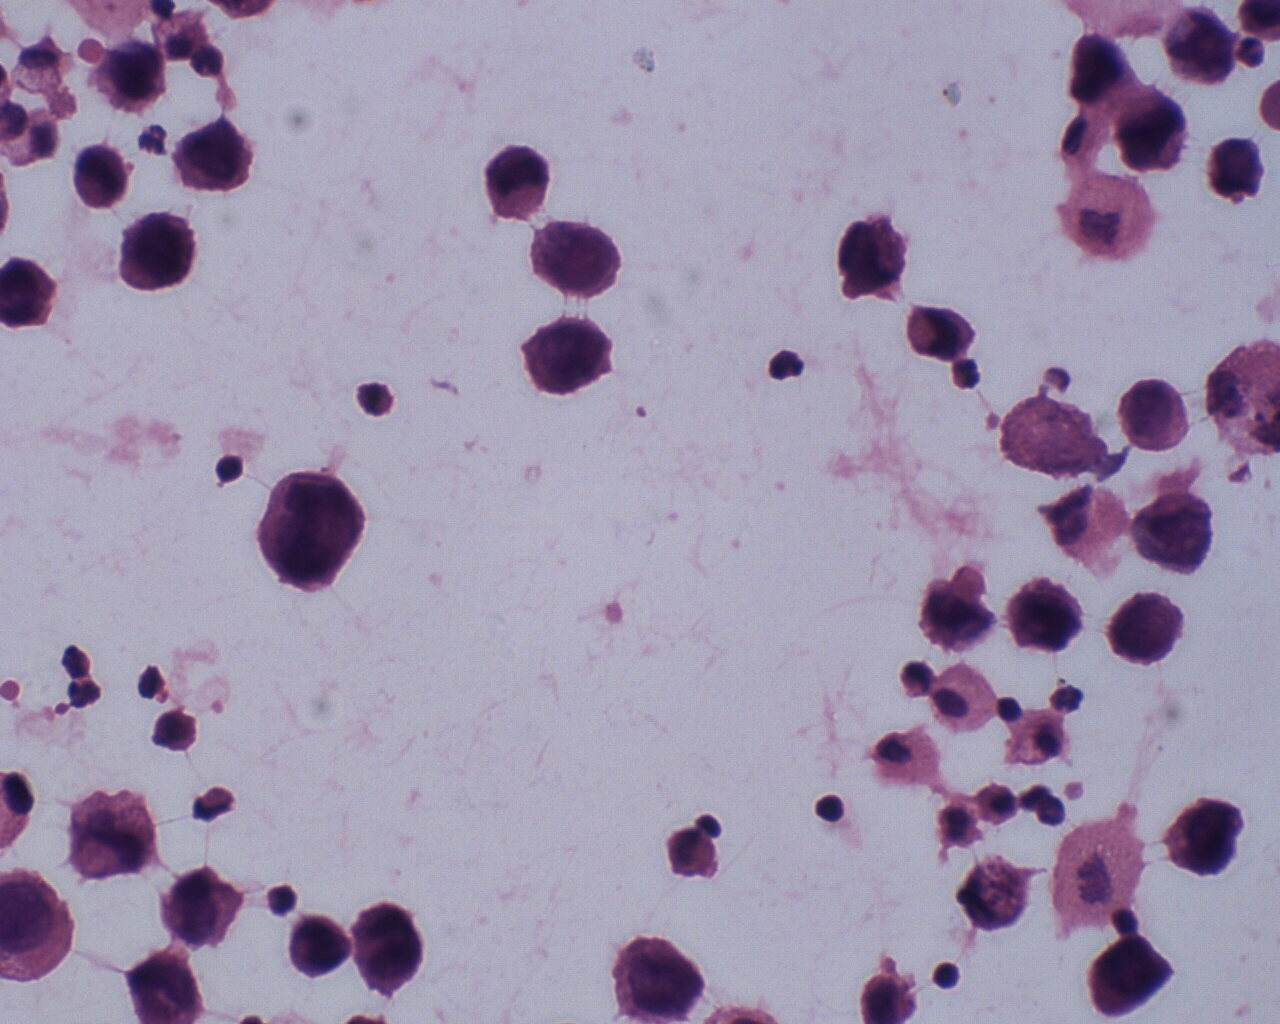ab: (255, 472, 369, 594), (611, 929, 707, 1024), (518, 312, 615, 399), (1079, 938, 1178, 1020), (1131, 486, 1217, 578), (1110, 83, 1195, 174), (349, 900, 427, 999), (111, 209, 204, 292), (531, 215, 624, 297), (159, 865, 242, 952), (1165, 794, 1248, 882), (171, 113, 259, 193), (1160, 1, 1237, 92), (1106, 587, 1186, 673), (1006, 574, 1089, 656), (1118, 374, 1196, 455), (94, 39, 171, 114), (483, 139, 553, 218), (1201, 130, 1267, 202), (71, 143, 134, 212), (288, 915, 353, 979)
lymph: (924, 951, 961, 995), (815, 789, 851, 829)
meso: (929, 664, 996, 736)
neutro: (1235, 27, 1271, 67)
